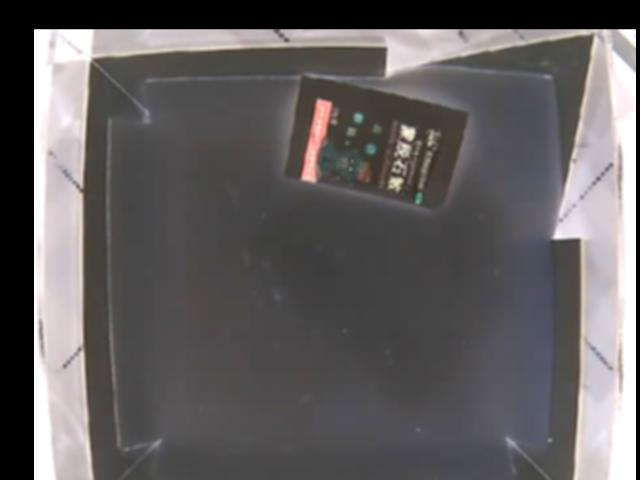Medicine: (279, 73, 471, 213)
